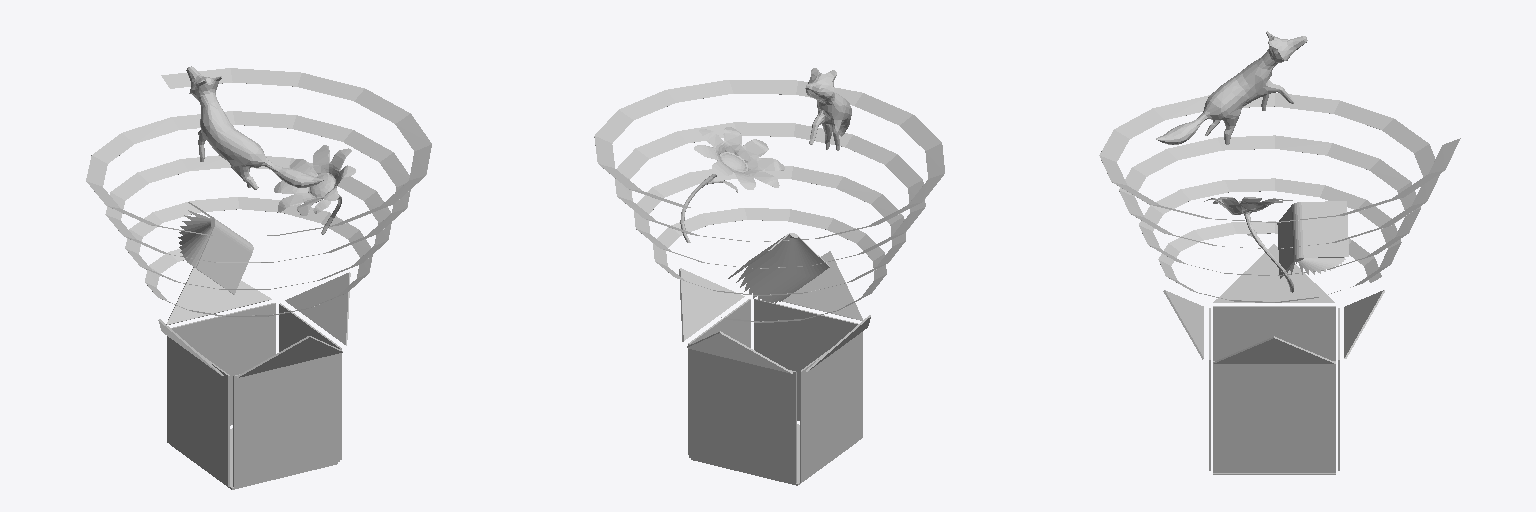
The picture shows the model from 3 angles: view 1: azimuth 30°, elevation 25°; view 2: azimuth 150°, elevation 25°; view 3: azimuth 270°, elevation 25°; orthographic projection.
Visible parts, largest first — view 1: Box_Cube, Shine_Plane, Fox_Cube.003, Flower_Sphere.002, Book_Plane.001, Page_Plane.002; view 2: Box_Cube, Shine_Plane, Flower_Sphere.002, Page_Plane.002, Fox_Cube.003; view 3: Box_Cube, Shine_Plane, Fox_Cube.003, Book_Plane.001, Flower_Sphere.002, Page_Plane.002.
Boxes of the visible parts, x1=… form: Box_Cube: x1=158, y1=267, x2=350, y2=489; Shine_Plane: x1=86, y1=68, x2=431, y2=316; Fox_Cube.003: x1=186, y1=66, x2=323, y2=189; Flower_Sphere.002: x1=274, y1=145, x2=355, y2=234; Book_Plane.001: x1=188, y1=202, x2=253, y2=294; Page_Plane.002: x1=178, y1=210, x2=212, y2=267; Box_Cube: x1=679, y1=251, x2=870, y2=485; Shine_Plane: x1=594, y1=80, x2=944, y2=322; Flower_Sphere.002: x1=680, y1=127, x2=784, y2=242; Page_Plane.002: x1=736, y1=236, x2=825, y2=303; Fox_Cube.003: x1=805, y1=68, x2=851, y2=150; Box_Cube: x1=1163, y1=244, x2=1384, y2=474; Shine_Plane: x1=1099, y1=93, x2=1460, y2=302; Fox_Cube.003: x1=1156, y1=31, x2=1307, y2=144; Book_Plane.001: x1=1277, y1=201, x2=1348, y2=278; Flower_Sphere.002: x1=1204, y1=197, x2=1293, y2=292; Page_Plane.002: x1=1287, y1=257, x2=1345, y2=274.
Bounding box in the file's own units: 5.36 × 6.57 × 5.51.